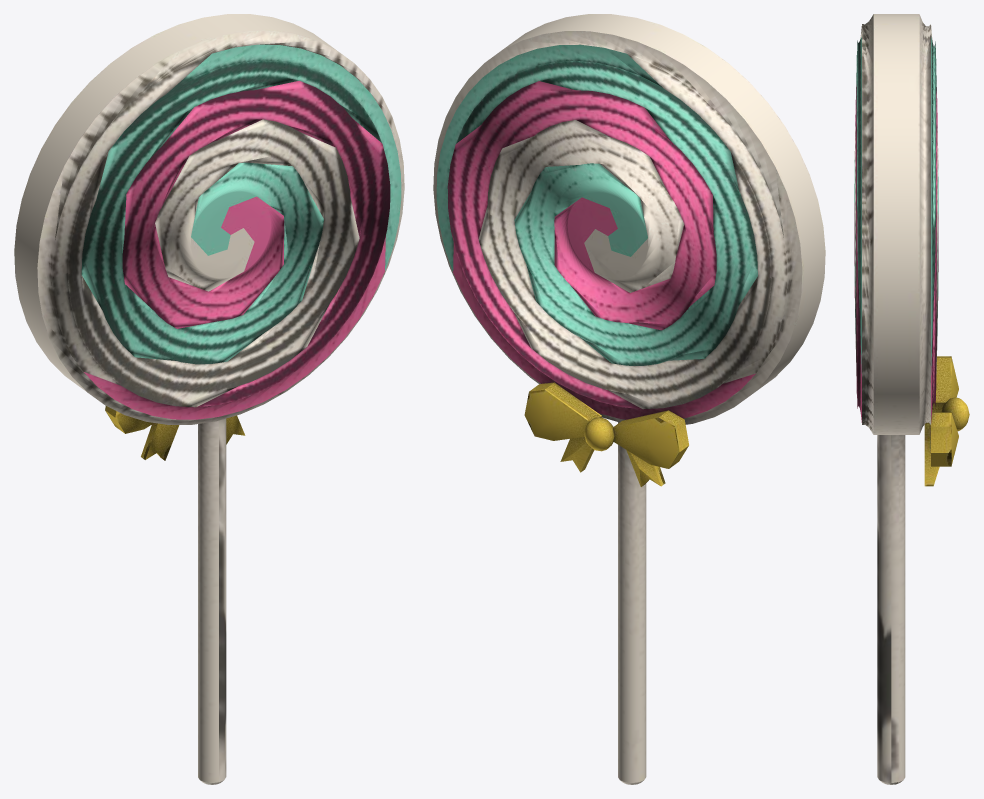
3 renders of one model, left to right at view 1: azimuth 30°, elevation 25°; view 2: azimuth 150°, elevation 25°; view 3: azimuth 270°, elevation 25°, orthographic.
Parts seen in each view (by area): view 1: Sugar_Cream, Candy_Mint, Candy_Pink, Lemon_Ribbon; view 2: Sugar_Cream, Candy_Mint, Candy_Pink, Lemon_Ribbon; view 3: Sugar_Cream, Lemon_Ribbon, Candy_Mint, Candy_Pink.
Part boxes in pixels (x1=…): Sugar_Cream: x1=14, y1=14, x2=404, y2=784; Candy_Mint: x1=81, y1=44, x2=401, y2=364; Candy_Pink: x1=84, y1=80, x2=390, y2=419; Lemon_Ribbon: x1=105, y1=406, x2=245, y2=460; Sugar_Cream: x1=433, y1=14, x2=825, y2=784; Candy_Mint: x1=436, y1=44, x2=757, y2=365; Candy_Pink: x1=447, y1=81, x2=755, y2=419; Lemon_Ribbon: x1=524, y1=382, x2=688, y2=486; Sugar_Cream: x1=854, y1=14, x2=938, y2=784; Lemon_Ribbon: x1=924, y1=356, x2=969, y2=486; Candy_Mint: x1=854, y1=37, x2=938, y2=374; Candy_Pink: x1=854, y1=84, x2=938, y2=422.
Bounding box in the file's own units: 0.3299 × 0.6449 × 0.0902.
4 materials, 4 textured.
